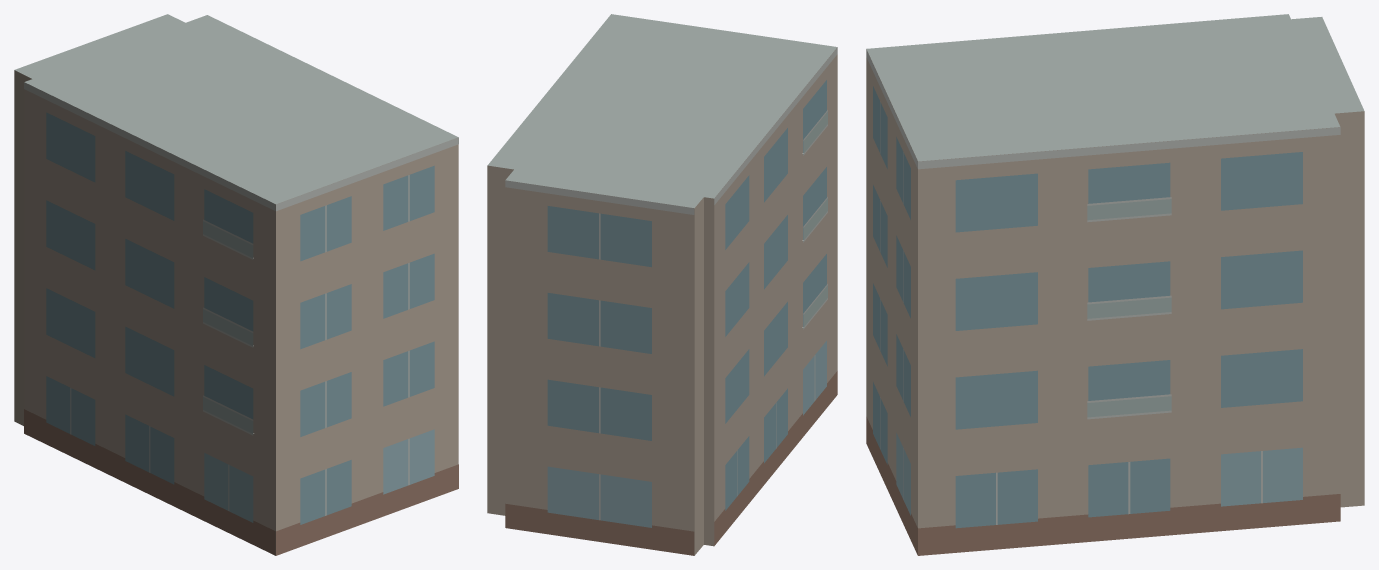
Rendered from survey-upis-32587563.glb.
3 renders of one model, left to right at view 1: azimuth 30°, elevation 25°; view 2: azimuth 150°, elevation 25°; view 3: azimuth 270°, elevation 25°, orthographic. The views are drawn at different scales.
Parts seen in each view (by area): view 1: survey-upis-32587563.tmp; view 2: survey-upis-32587563.tmp; view 3: survey-upis-32587563.tmp.
Boxes of the visible parts, left/top/right/bottom form: survey-upis-32587563.tmp: left=14, top=14, right=458, bottom=555; survey-upis-32587563.tmp: left=487, top=14, right=837, bottom=555; survey-upis-32587563.tmp: left=866, top=14, right=1364, bottom=555.
Bounding box in the file's own units: 9.79 × 12.2 × 13.98.
